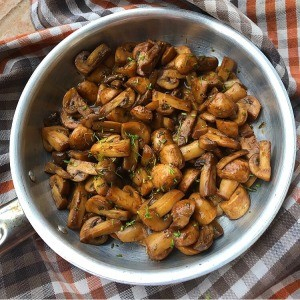mushroom_brain food: (80, 86, 233, 212)
